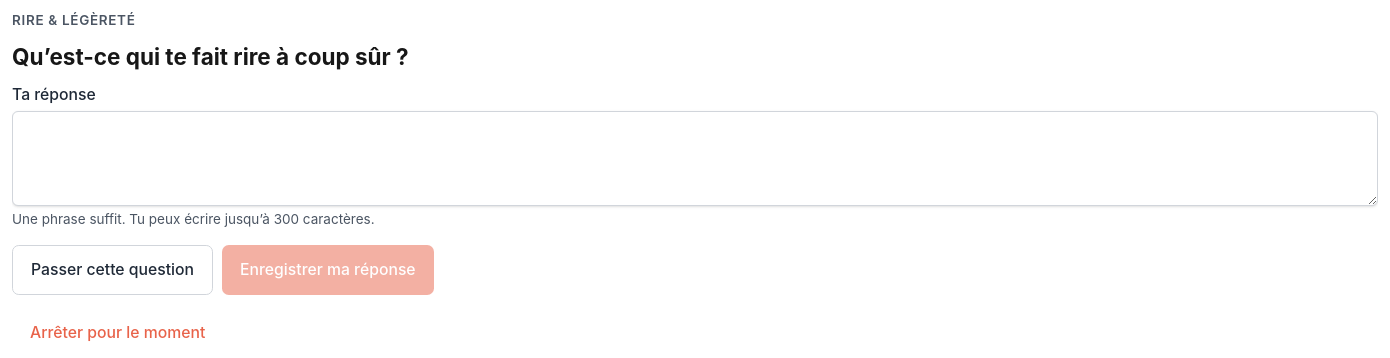
« une par une » : passer pendant un enregistrement › ne saute pas la question suivante et ne repropose pas celle qui vient d’être enregistrée
The image size is (1390, 358).
Type "Les chats." into the text box labelled "Ta réponse" at (695, 159), box [12,111,1378,206]
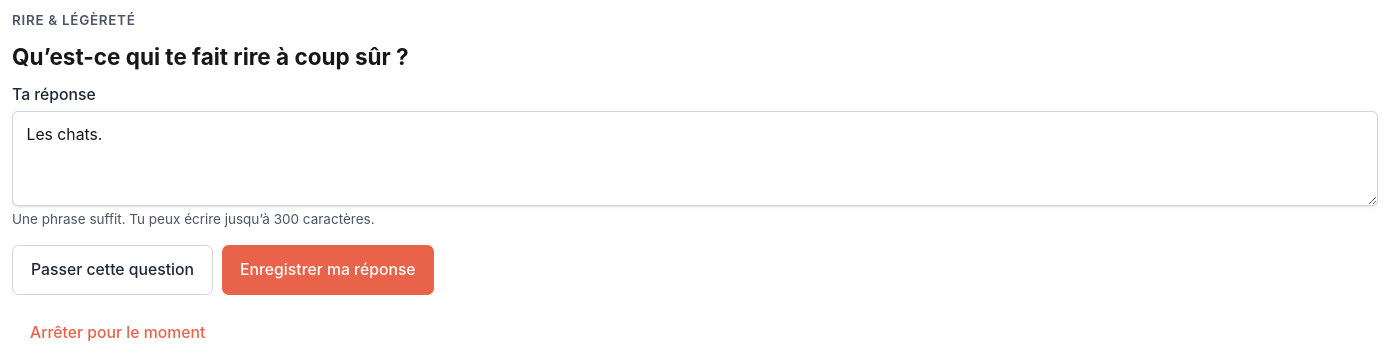
Click the button "Enregistrer ma réponse" at (328, 270), box [222,245,434,294]
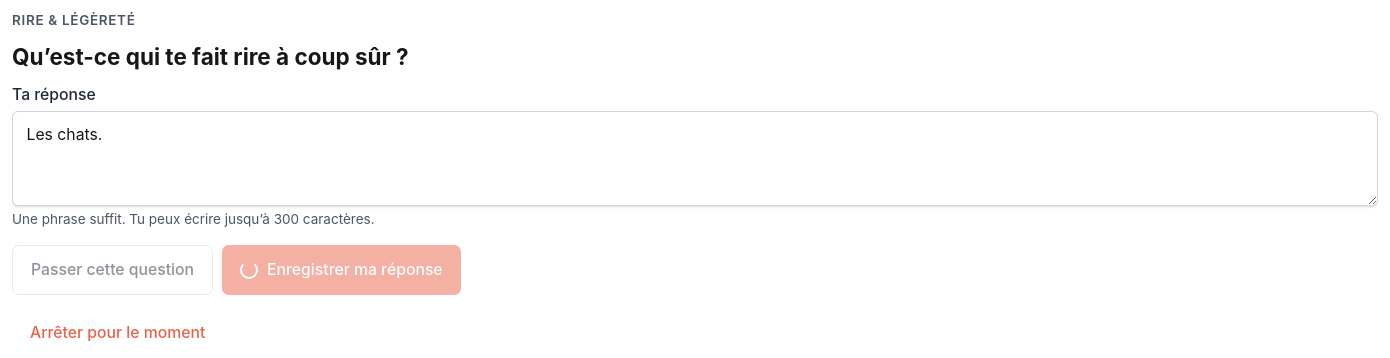
Check: the button "Passer cette question" is disabled
Click the button "Passer cette question" at (113, 270), box [12,245,213,294]
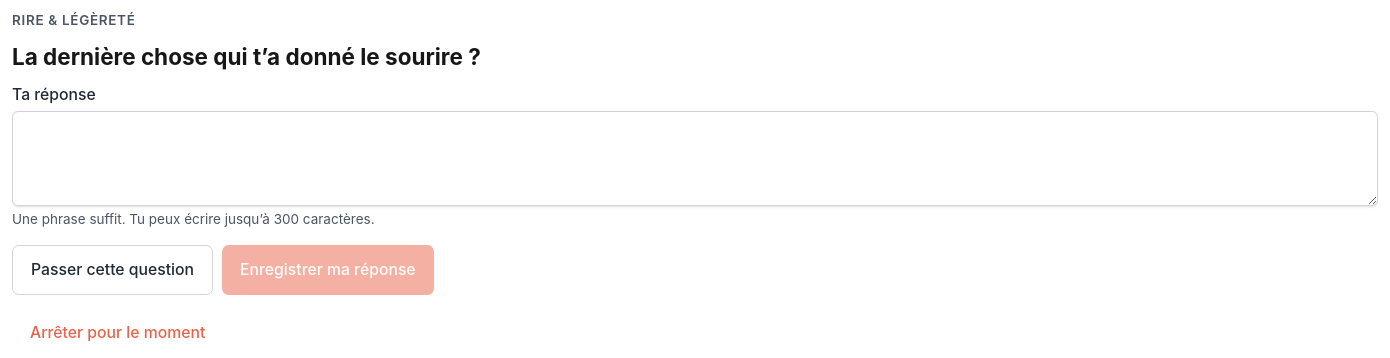
Check: the heading "Qu’est-ce qui te fait rire à coup sûr ?" no longer shows "Qu’est-ce qui te fait rire à coup sûr ?"
Check: the heading shows "qui t’a donné le sourire", box [12,44,481,70]
